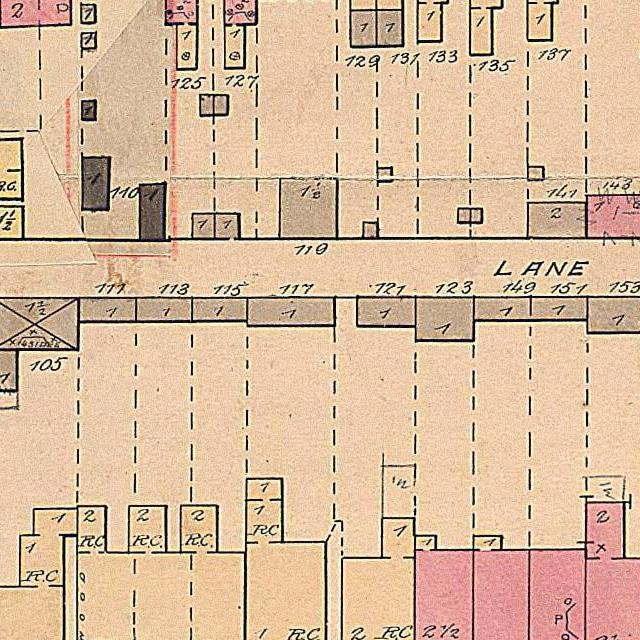building-footprints: (77, 505, 245, 640), (245, 479, 326, 640), (0, 509, 77, 640), (341, 518, 414, 640), (585, 502, 640, 640), (414, 536, 473, 640), (473, 536, 529, 640), (529, 549, 586, 640), (0, 298, 79, 349), (280, 178, 337, 239), (474, 297, 588, 320), (416, 297, 474, 341), (247, 298, 335, 326), (587, 195, 640, 238), (224, 0, 257, 68), (166, 0, 197, 69), (528, 203, 587, 238), (587, 297, 640, 333), (357, 297, 416, 326), (140, 184, 165, 241), (82, 158, 109, 210), (78, 298, 136, 322), (136, 298, 192, 321), (192, 298, 247, 321), (350, 10, 377, 46), (377, 10, 403, 46), (0, 350, 18, 391), (215, 214, 239, 239), (192, 214, 215, 239), (214, 95, 228, 115), (201, 95, 214, 116), (81, 5, 96, 23), (82, 101, 96, 120), (363, 222, 378, 239), (82, 33, 96, 48), (528, 167, 544, 180), (378, 168, 392, 182), (458, 209, 471, 223), (470, 209, 482, 223)
